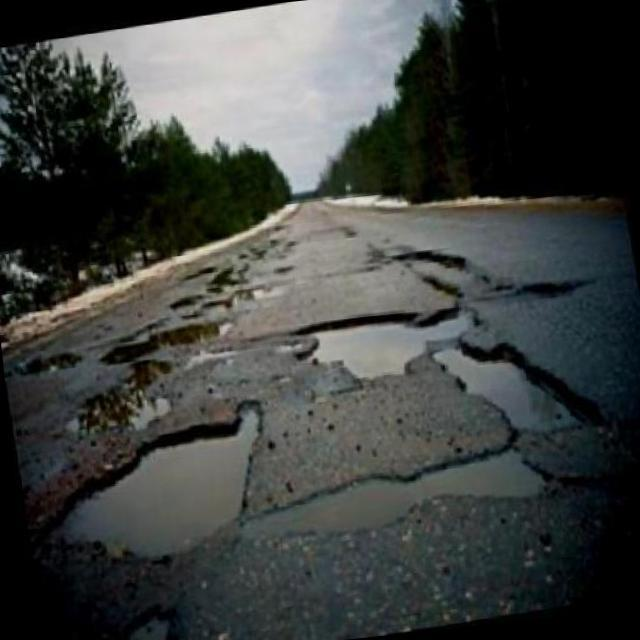Pothole: (45, 399, 263, 563), (239, 450, 553, 547), (432, 343, 605, 433), (292, 308, 469, 378), (391, 249, 596, 302), (127, 605, 178, 640)
